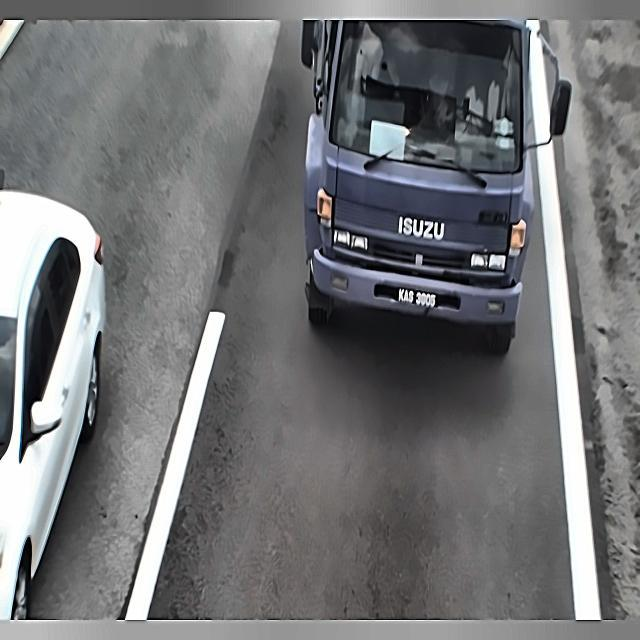car: (392, 279, 440, 315)
